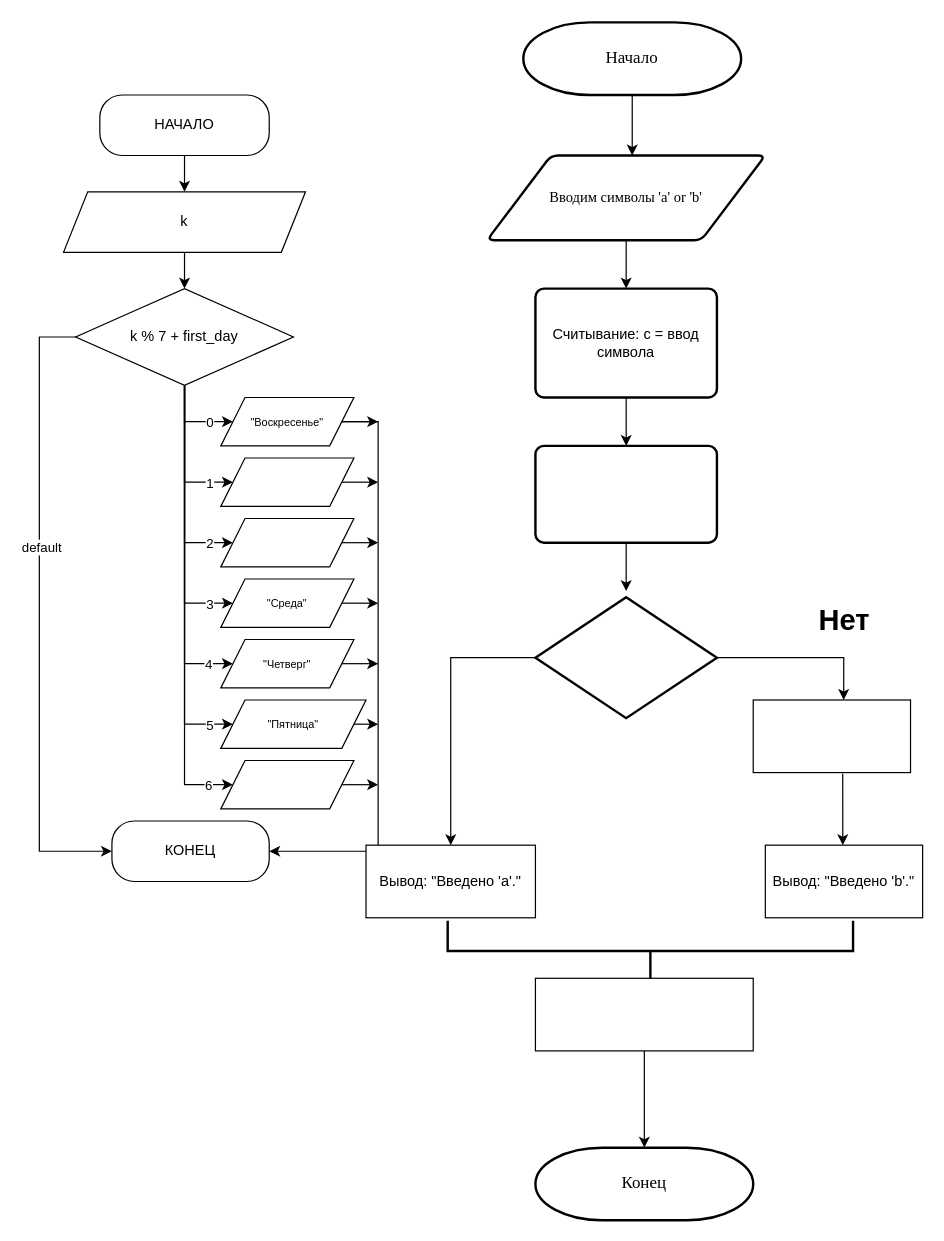
The diagram is 944 pixels wide and 1241 high, and some of its shapes have lost their labels. The shapes that lost their labels are listed below. From the top down, each one's centre as x and y in pixels, then its label:
the point at 287,481: "Понедельник"
the point at 626,493: Проверка значения c:
the point at 287,542: "Вторник"
the point at 626,657: Если c == 'a':
the point at 831,736: Если c == 'b':
the point at 287,784: "Суббота"
the point at 643,1014: Вывод: "Неизвестный символ"
